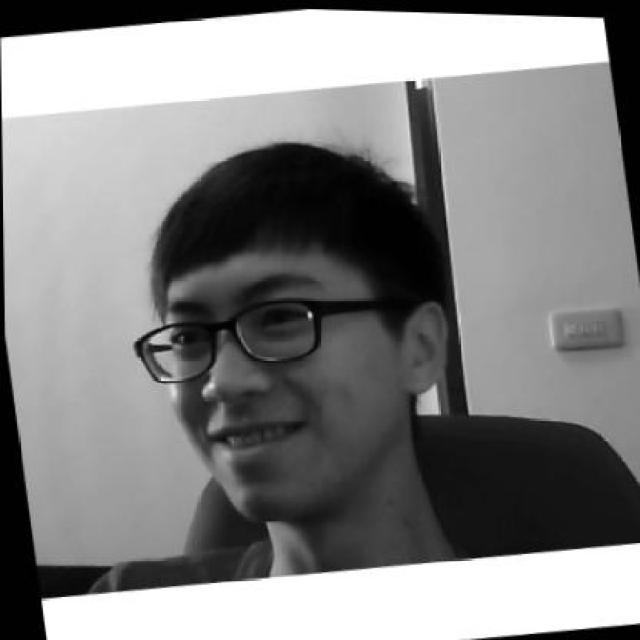attentif: (107, 121, 467, 536)
